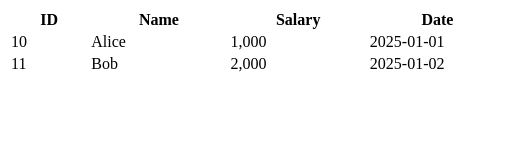
Scenario: DataGrid editing › preserves navigation for read-only cells and starts editing from Enter or F2
Press the mouse on the cell "10" at (19, 42), box [10, 32, 88, 52]
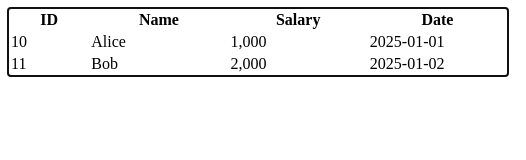
Press Enter in the table, box [8, 8, 508, 76]
Press the mouse on the cell "Bob" at (105, 64), box [90, 54, 228, 74]
Press F2 in the table, box [8, 8, 508, 76]
Press the mouse on the cell "Alice" at (109, 42), box [90, 32, 228, 52]
Press Enter in the table, box [8, 8, 508, 76]
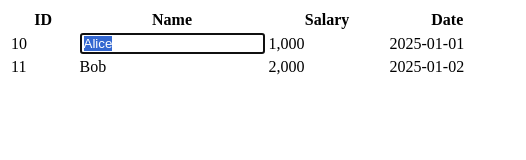
Press Escape in the field named "Edit Name", box [80, 33, 264, 54]
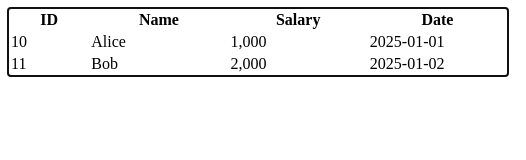
Press F2 in the table, box [8, 8, 508, 76]
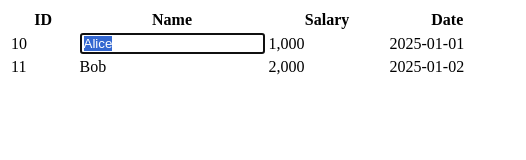
Expected: the field named "Edit Name" is shown, [80, 33, 264, 54]
